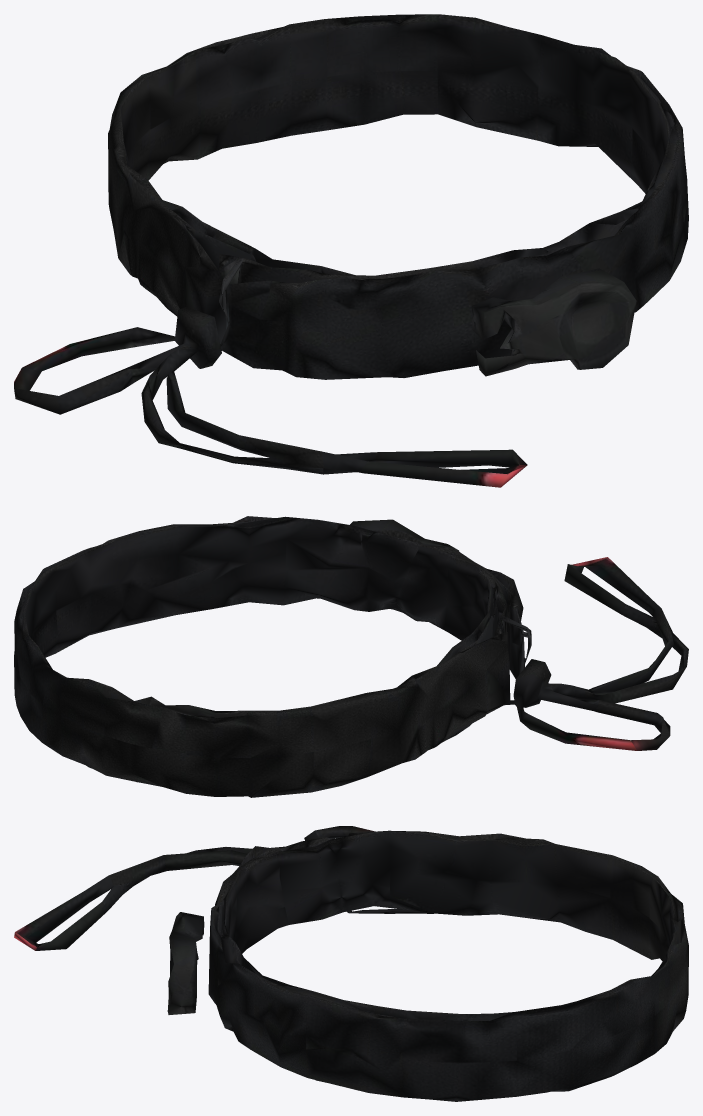
Rendered from turnike.glb.
3 views of the same model, one above another, from view 1: azimuth 30°, elevation 25°; view 2: azimuth 150°, elevation 25°; view 3: azimuth 270°, elevation 25° (orthographic). The views are drawn at different scales.
Parts seen in each view (by area): view 1: kok; view 2: kok; view 3: kok.
Boxes of the visible parts, left/top/right/bottom form: kok: left=14, top=14, right=688, bottom=487; kok: left=14, top=516, right=688, bottom=797; kok: left=14, top=826, right=688, bottom=1101.
Size of the model in its own units: 0.3336 by 0.0516 by 0.35.
Materials: 1 (1 with a texture image).
